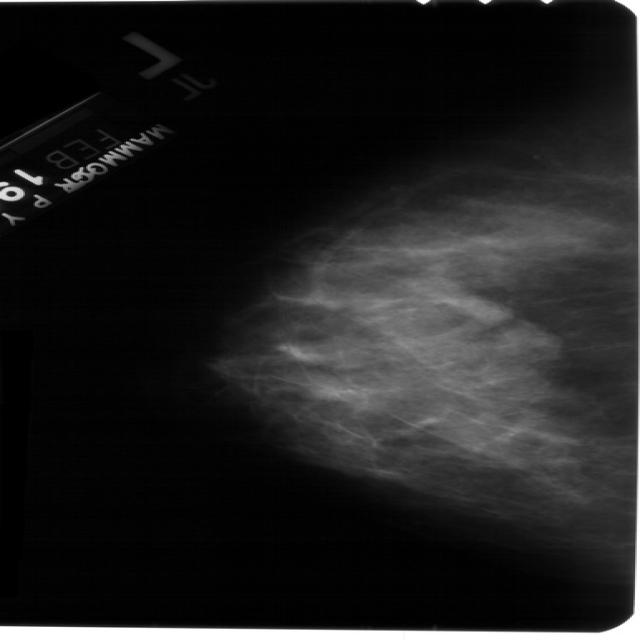tumour: (492, 322, 560, 358)
